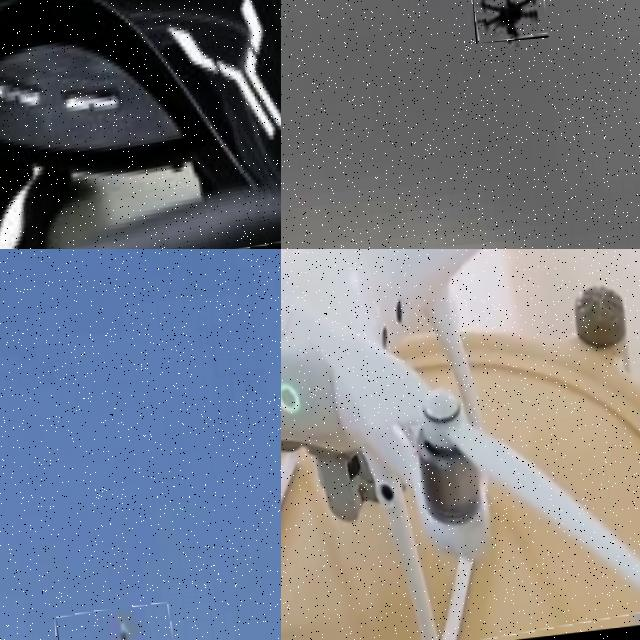drone: (281, 249, 640, 640), (0, 0, 281, 249), (55, 603, 184, 640), (470, 0, 547, 43)
